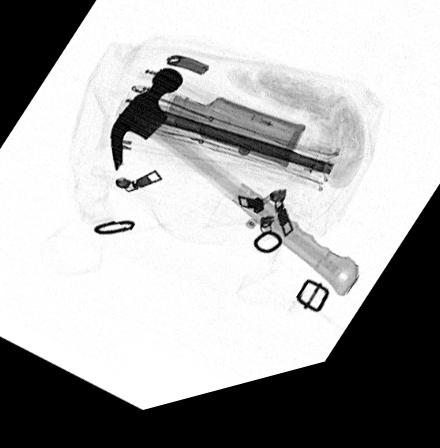Hammer: (109, 76, 360, 315)
